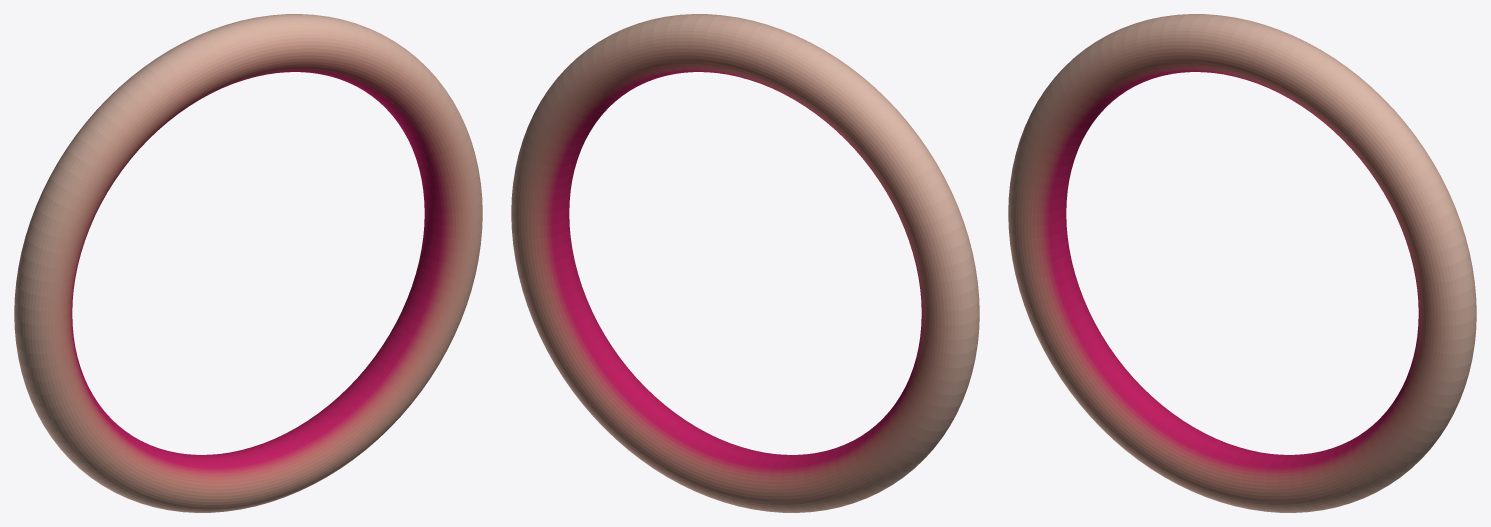
The picture shows the model from 3 angles, left to right: view 1: azimuth 30°, elevation 25°; view 2: azimuth 150°, elevation 25°; view 3: azimuth 330°, elevation 25°; orthographic projection.
Parts seen in each view (by area): view 1: world; view 2: world; view 3: world.
Boxes of the visible parts, x1,y1,x2,y2 form: world: (14,14,482,512); world: (511,14,979,512); world: (1008,14,1476,512).
Bounding box in the file's own units: 23.2 × 23.2 × 2.53.
